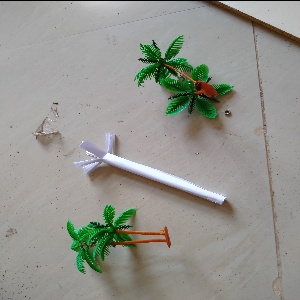plant: (130, 36, 234, 114), (64, 207, 176, 270)
weed: (76, 130, 229, 212)
